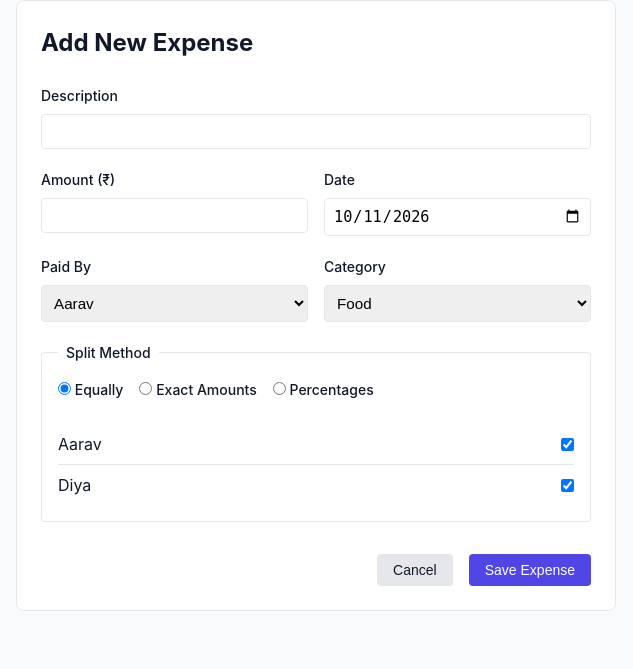
Test case: AddExpensePage › shows validation errors for empty/invalid submission
Step 1. Click the button "Save Expense" → (530, 570), box [469,554,591,586]
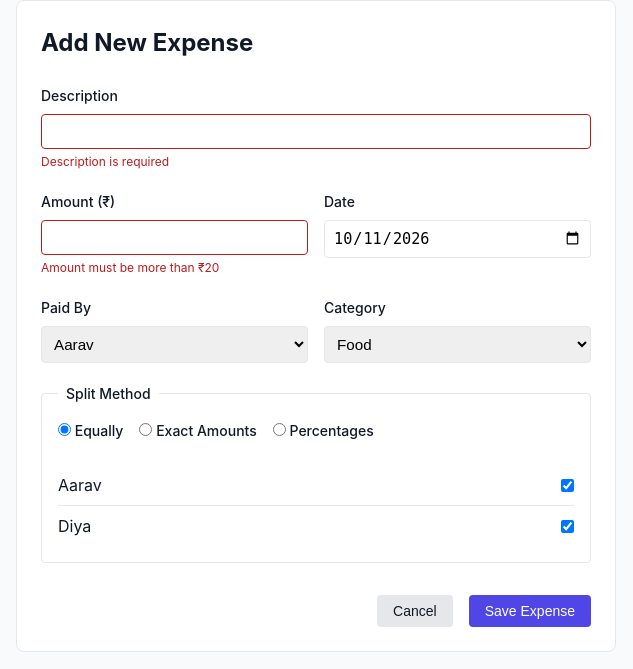
Expected: the text "Description is required" is shown, [41,154,169,169]
Expected: the text "Amount must be more than ₹20" is shown, [41,260,220,275]
